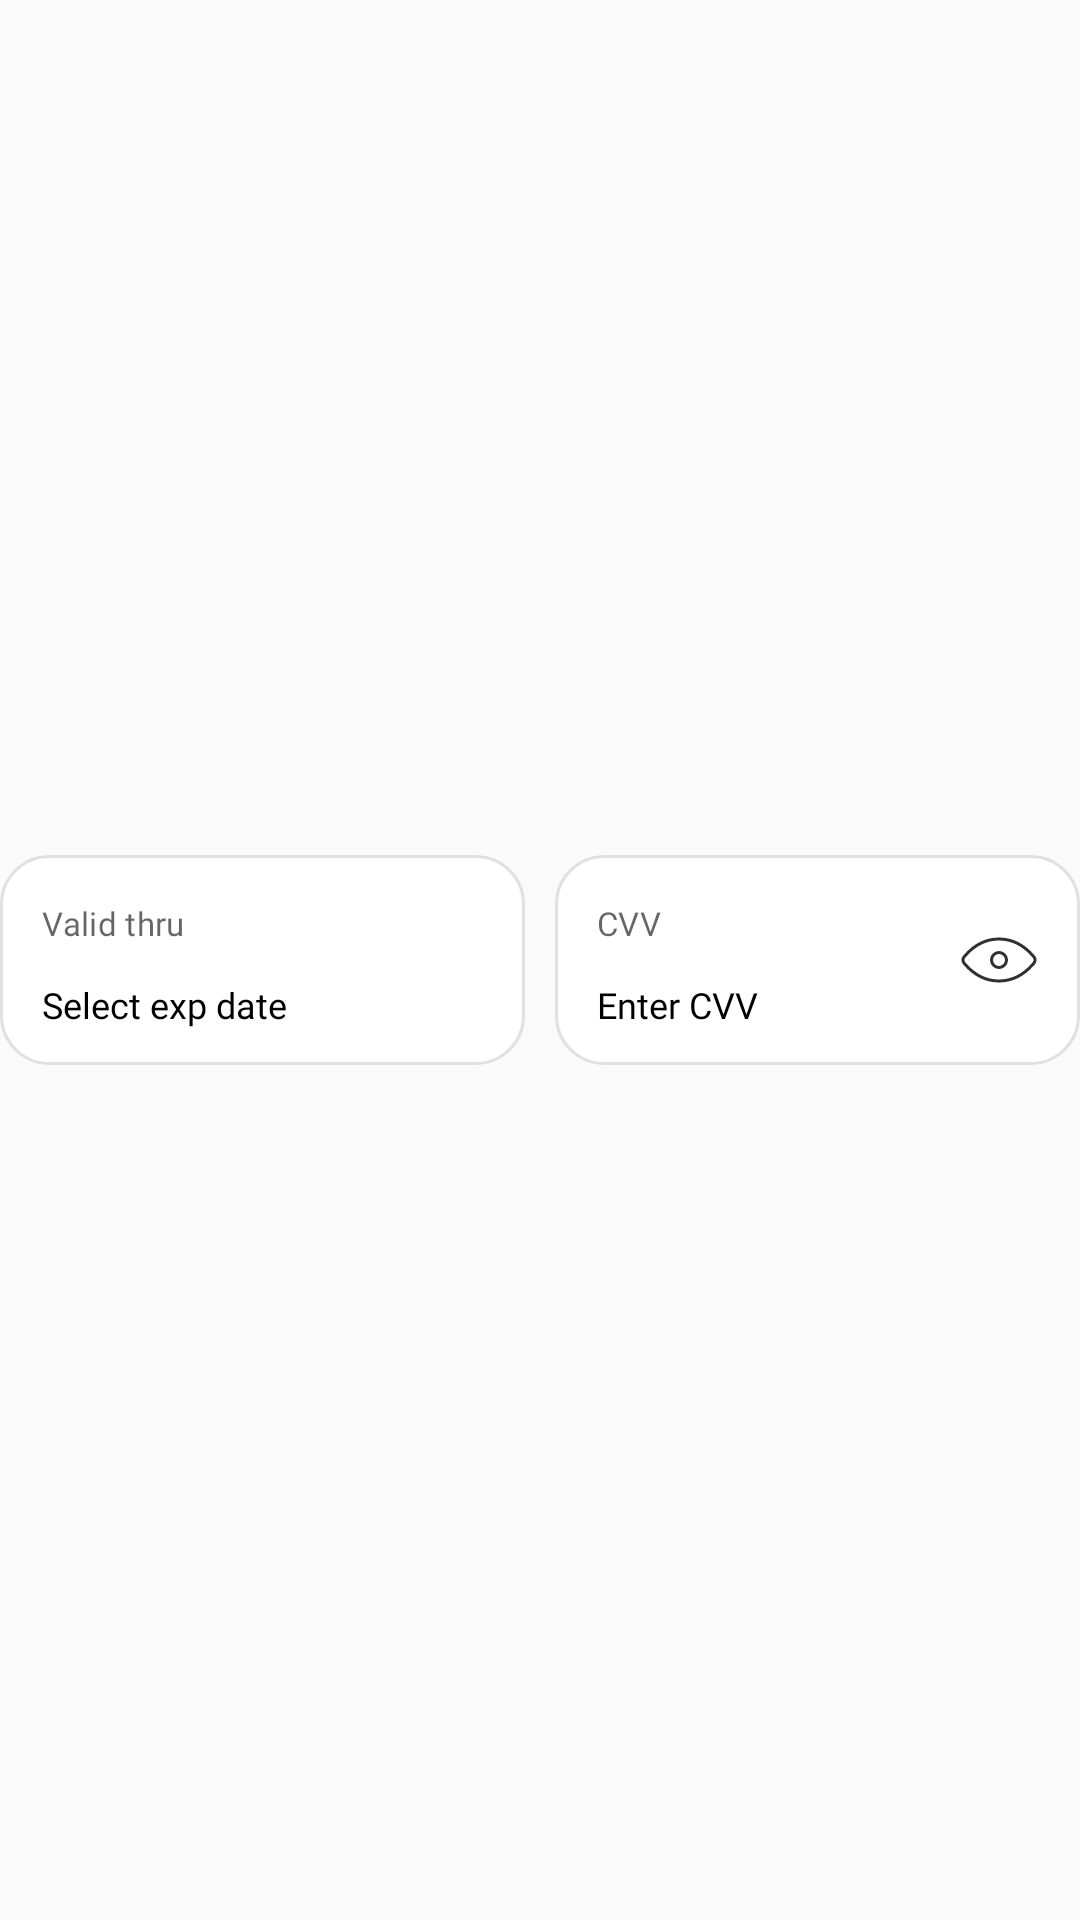

Icon bounding boxes for this 1080x1920 phone screenshot, format detection(x1, y1, x2, y2):
visible: detection(961, 937, 1037, 983)
